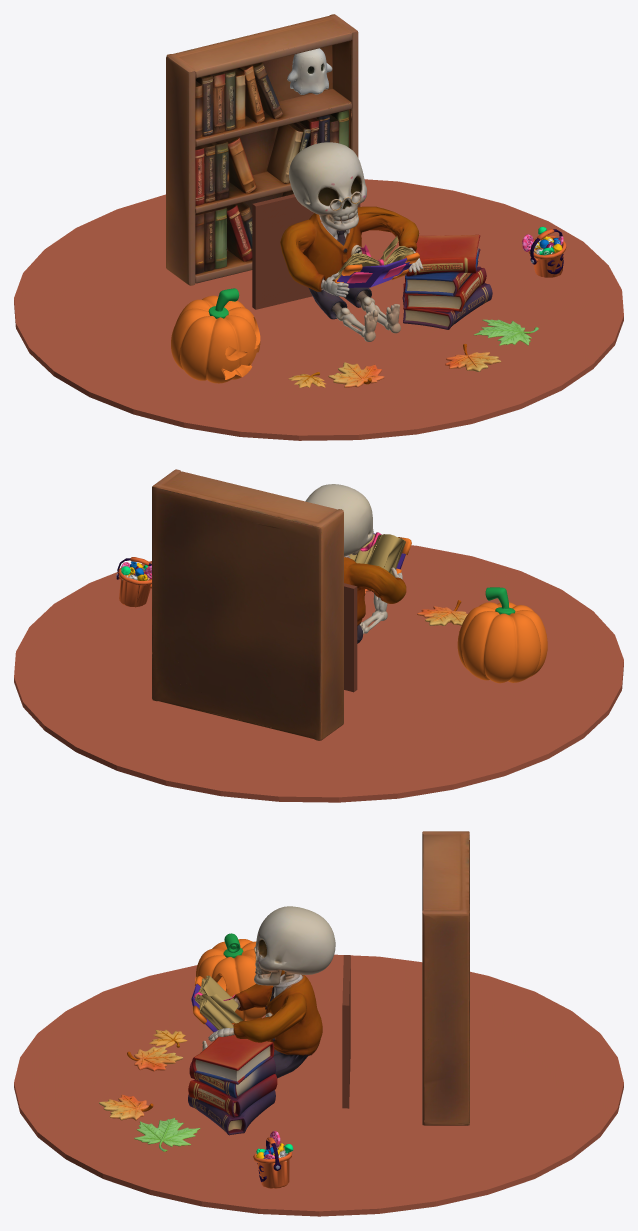
The model's file is third scene with animation-optimized.glb.
3 renders of one model, top to bottom at view 1: azimuth 30°, elevation 25°; view 2: azimuth 150°, elevation 25°; view 3: azimuth 270°, elevation 25°, orthographic.
Parts seen in each view (by area): view 1: Plane, Book Shelf, material.001, Book Stack, Book's evil circle, Pumpkin, Orange maple leaf, Book in hand, Ghost, Green maple leaf, Candy bucket; view 2: Plane, Book Shelf, Pumpkin, material.001, Book's evil circle, Orange maple leaf, Candy bucket; view 3: Plane, Book Shelf, material.001, Book Stack, Book's evil circle, Pumpkin, Orange maple leaf, Green maple leaf.
Part boxes in pixels (bbox=[...]): Plane: bbox=[14, 179, 623, 440]; Book Shelf: bbox=[166, 14, 358, 285]; material.001: bbox=[280, 142, 422, 341]; Book Stack: bbox=[402, 234, 492, 329]; Book's evil circle: bbox=[208, 194, 566, 318]; Pumpkin: bbox=[171, 295, 260, 383]; Orange maple leaf: bbox=[328, 344, 501, 387]; Book in hand: bbox=[334, 244, 419, 287]; Ghost: bbox=[287, 48, 332, 94]; Green maple leaf: bbox=[474, 319, 538, 345]; Candy bucket: bbox=[522, 226, 563, 263]; Plane: bbox=[14, 534, 623, 802]; Book Shelf: bbox=[152, 469, 343, 740]; Pumpkin: bbox=[457, 602, 547, 683]; material.001: bbox=[305, 484, 406, 643]; Book's evil circle: bbox=[116, 557, 515, 692]; Orange maple leaf: bbox=[365, 589, 467, 625]; Candy bucket: bbox=[116, 561, 151, 580]; Plane: bbox=[14, 954, 623, 1216]; Book Shelf: bbox=[422, 831, 469, 1125]; material.001: bbox=[202, 906, 335, 1078]; Book Stack: bbox=[188, 1034, 277, 1135]; Book's evil circle: bbox=[223, 933, 350, 1188]; Pumpkin: bbox=[195, 939, 265, 1024]; Orange maple leaf: bbox=[99, 1046, 183, 1120]; Green maple leaf: bbox=[134, 1118, 200, 1151].
Bounding box in the file's own units: 5.41 × 2.27 × 5.42.
13 materials, 13 textured.
